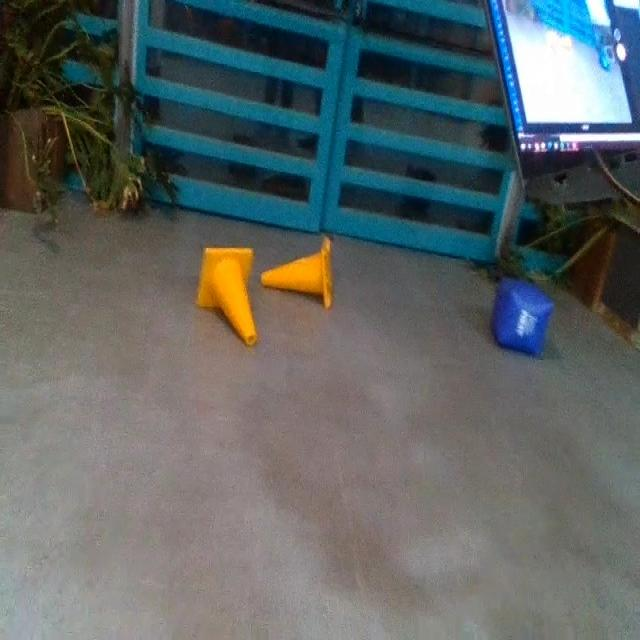cone: (195, 242, 261, 350), (258, 237, 338, 314)
cube: (491, 271, 553, 364)
